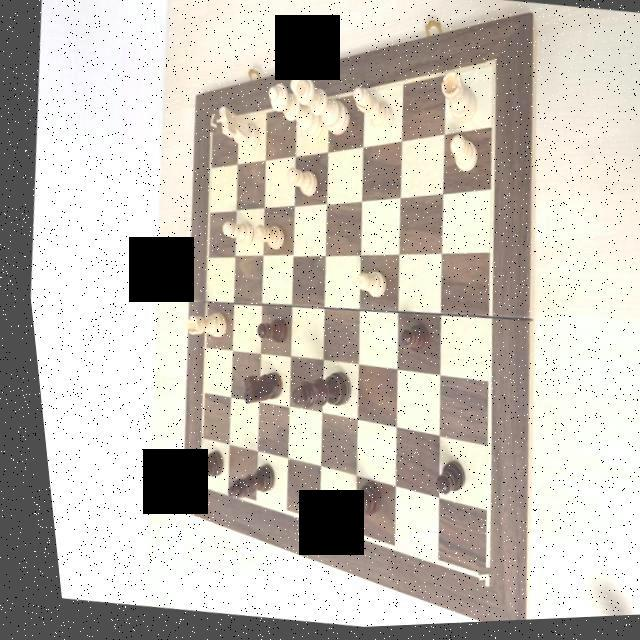chess-table-corners: (482, 56, 500, 84), (464, 570, 484, 594), (204, 116, 218, 135), (184, 479, 198, 495)
